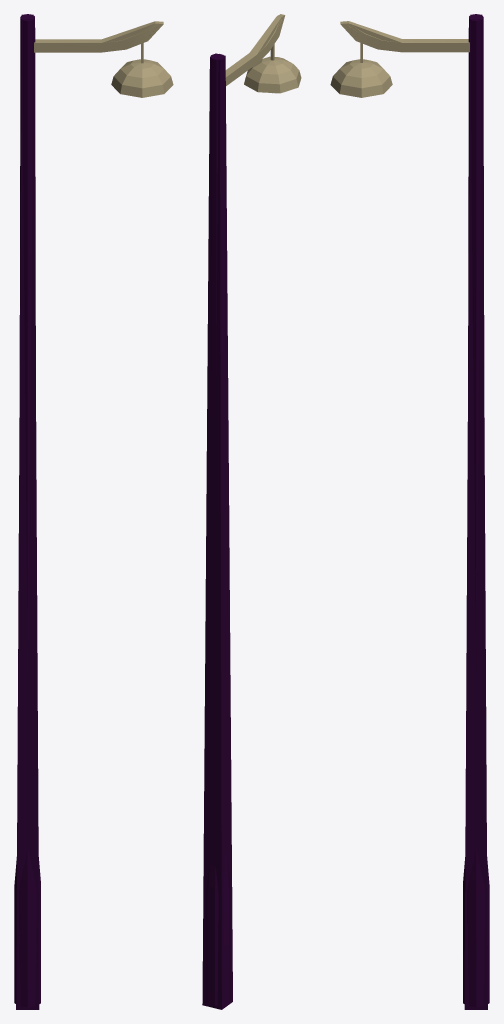
Rendered from Stlight.fbx.
3 views of the same model, side by side, from view 1: azimuth 90°, elevation 25°; view 2: azimuth 150°, elevation 25°; view 3: azimuth 270°, elevation 25° (orthographic). The views are drawn at different scales.
Visible parts, largest first — view 1: lp_light, hp_light, mp_light; view 2: lp_light, hp_light, mp_light; view 3: lp_light, hp_light, mp_light.
Part boxes in pixels (<box>): lp_light: <box>16,14,163,1009</box>; hp_light: <box>14,14,170,1007</box>; mp_light: <box>20,17,173,97</box>; lp_light: <box>202,14,284,1009</box>; hp_light: <box>206,14,298,1005</box>; mp_light: <box>211,15,301,93</box>; lp_light: <box>340,14,487,1009</box>; hp_light: <box>333,14,489,1007</box>; mp_light: <box>330,14,482,97</box>.
Bounding box in the file's own units: 40 × 700 × 102.
